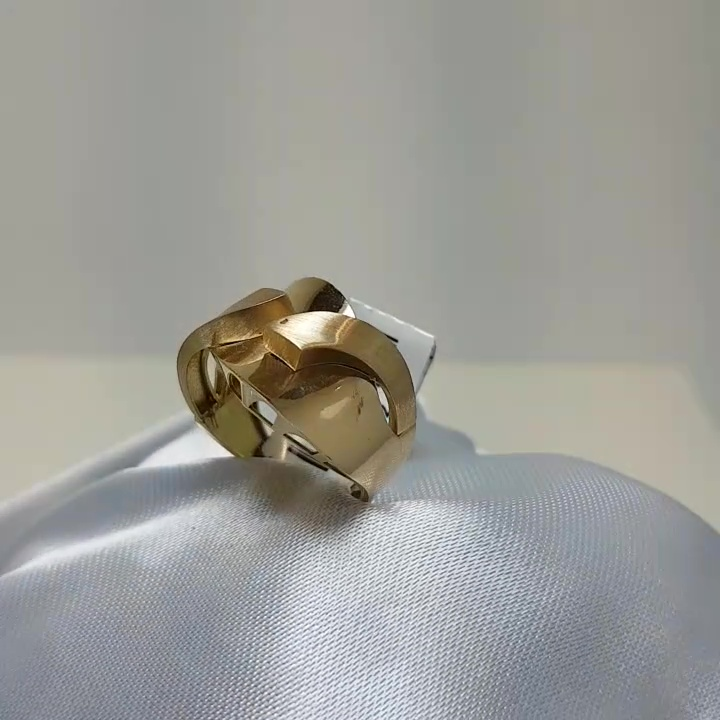Ring 4: (154, 265, 419, 519)
